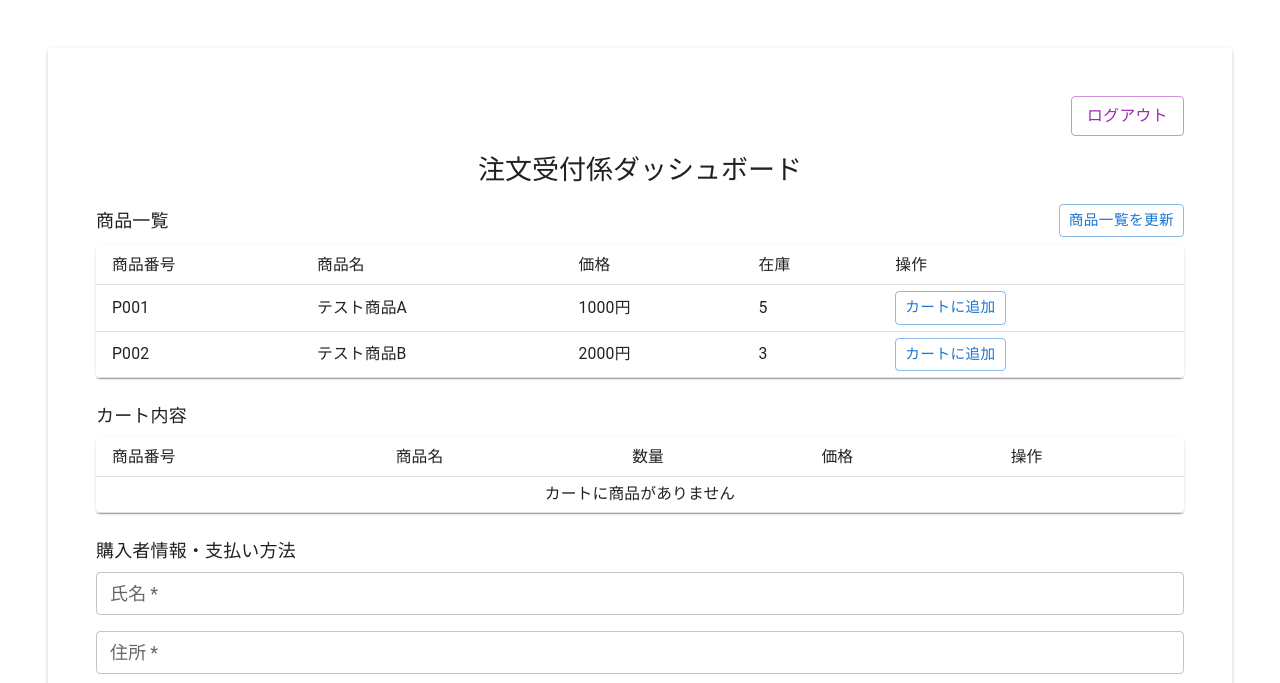
it: OrderTakerDashboard › 商品をカートに追加できる
The width and height of the screenshot is (1280, 683).
Expected: the text "テスト商品A" is shown, top-left (301, 285), bottom-right (562, 331)
// カートに追加ボタンをクリック
Click the button "カートに追加" in the row of "P001" at point(950, 308), box top-left (895, 291), bottom-right (1006, 325)
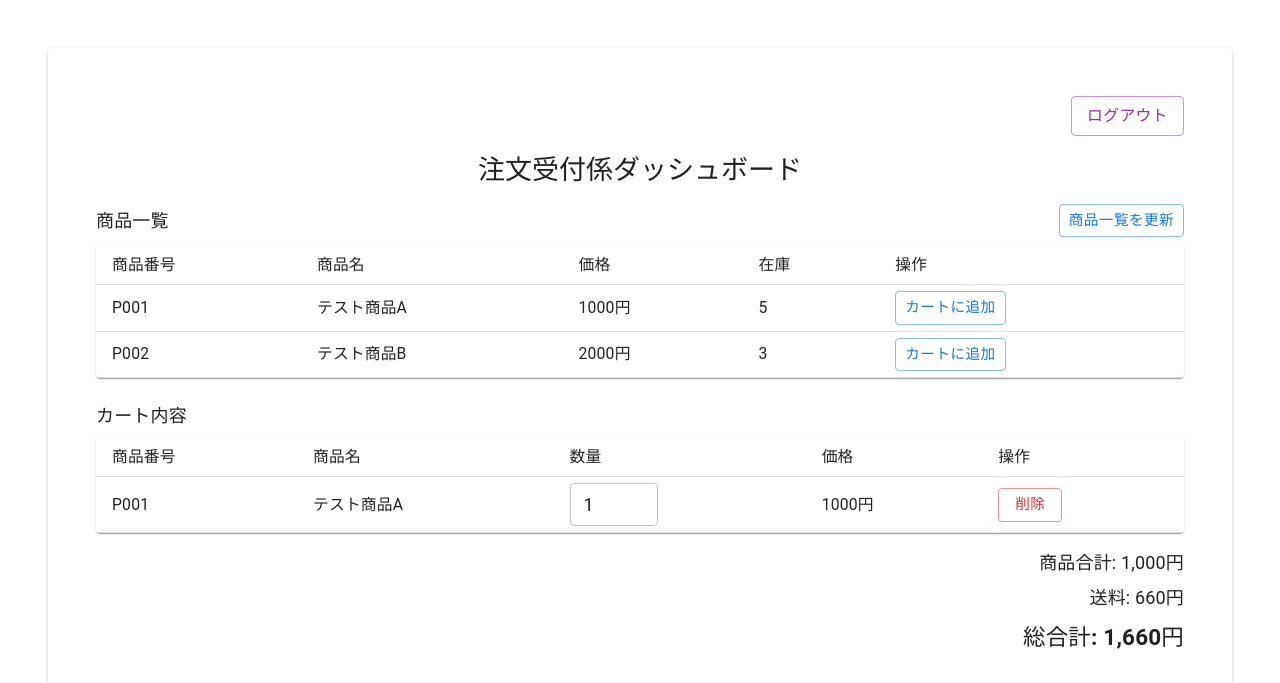
Expected: the text "テスト商品A" is shown 2 times, top-left (301, 285), bottom-right (562, 331); top-left (297, 477), bottom-right (554, 533)
